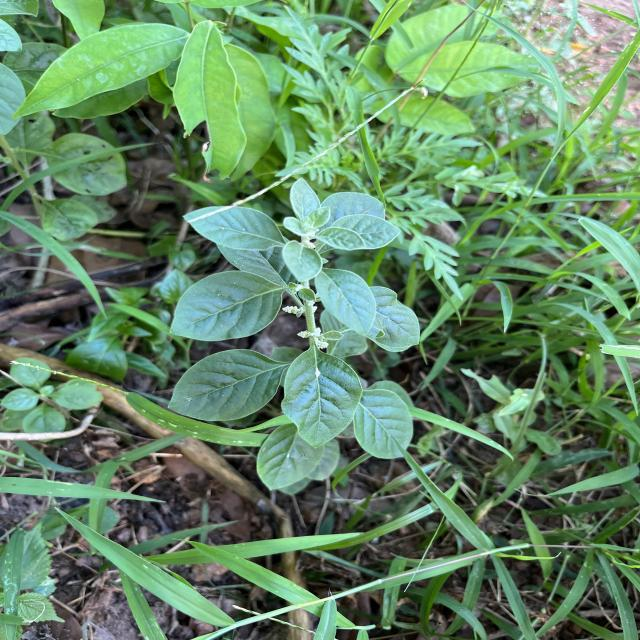Aerva lanata: (165, 346, 288, 424), (168, 268, 290, 344), (278, 346, 366, 450), (315, 266, 378, 340)
